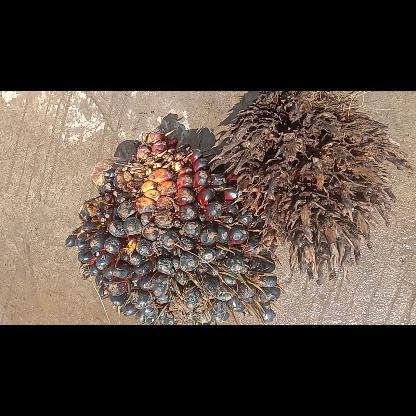Janjang kosong: (209, 90, 414, 284)
TBS mentah: (65, 129, 287, 324)
